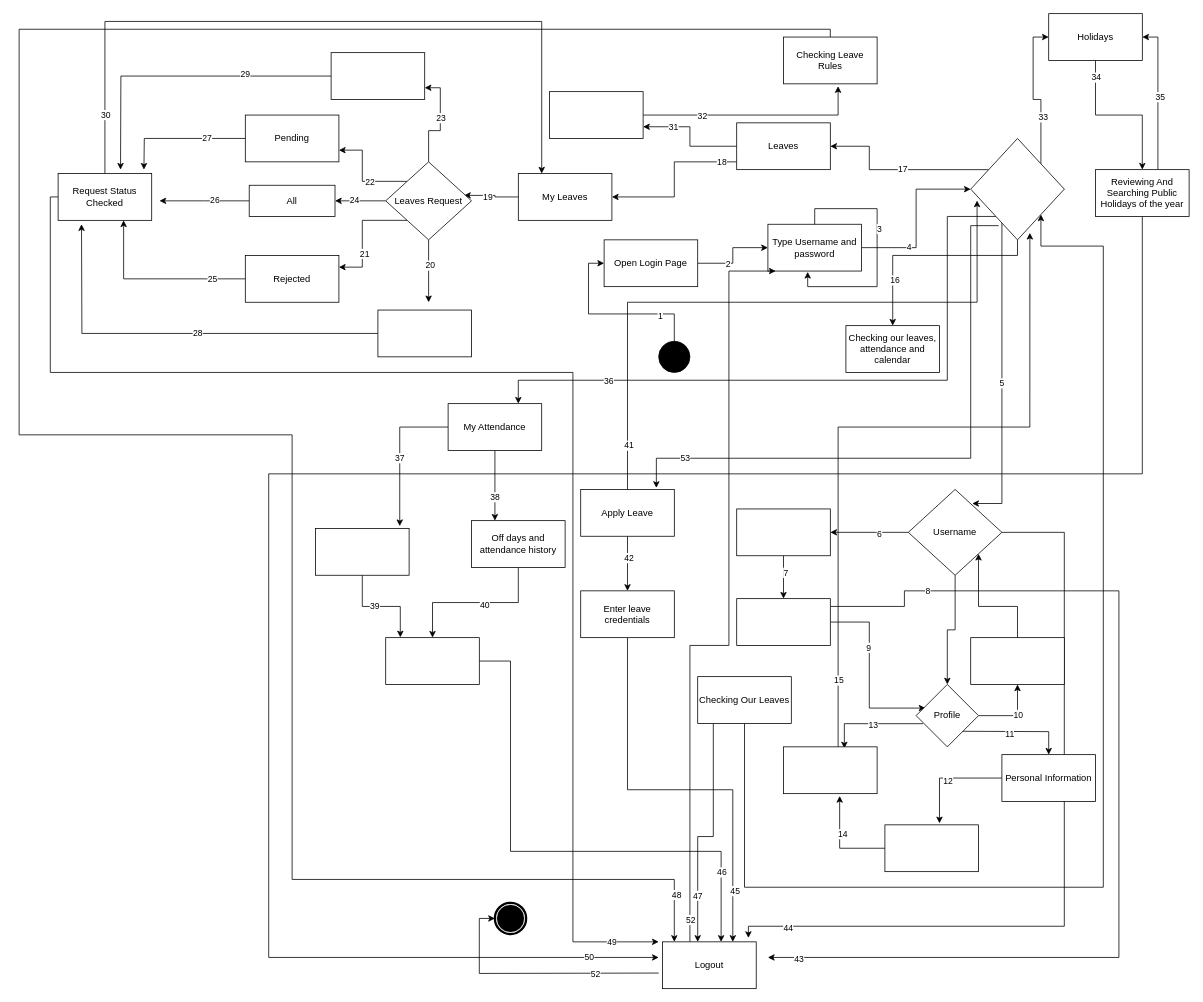
The diagram is 1203 pixels wide and 1002 high, and some of its shapes have lost their labels. Here are the shapes that lost their labels. From the top down, the box of each, then its label:
(330, 52, 425, 99): HR Acknowledgement
(549, 91, 643, 138): Leave Rules
(970, 138, 1064, 240): Dasboard
(377, 309, 472, 357): Accepted
(315, 528, 409, 575): Date Range
(736, 508, 830, 556): Change Password
(736, 598, 830, 645): Type and confirm new password
(385, 637, 479, 684): Reviewed our Attendance
(970, 637, 1064, 684): Change Profile Picture
(783, 746, 877, 794): Overview
(884, 824, 979, 872): Editing Personal Information
